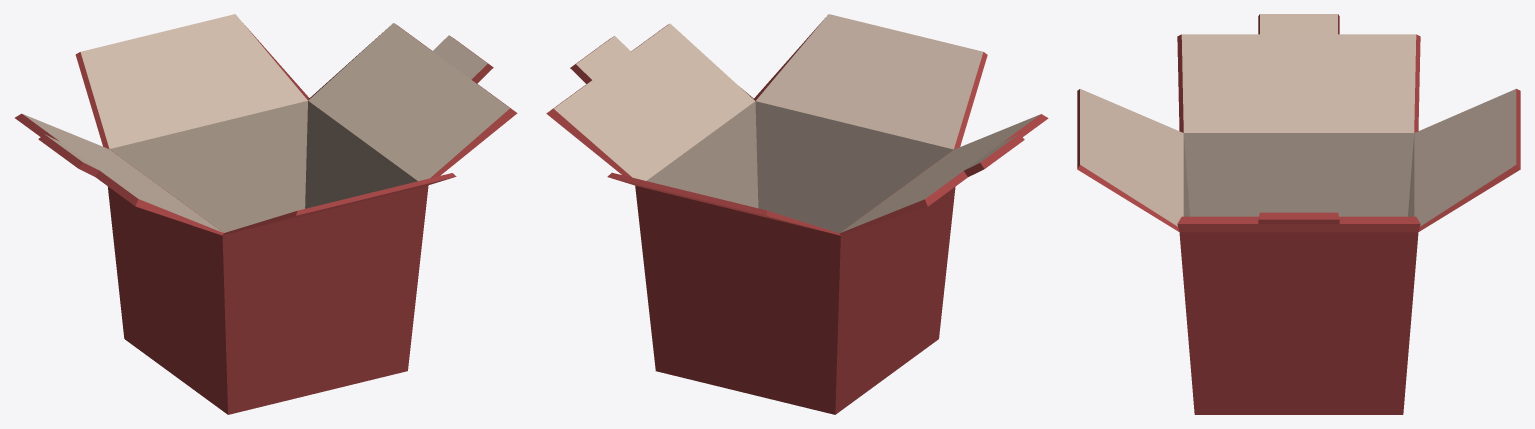
Rendered from Wok.fbx.
The picture shows the model from 3 angles, left to right: view 1: azimuth 30°, elevation 25°; view 2: azimuth 150°, elevation 25°; view 3: azimuth 270°, elevation 25°; orthographic projection.
Visible parts, largest first — view 1: Boite Wok; view 2: Boite Wok; view 3: Boite Wok.
Boxes of the visible parts, box(x1,y1,x2,y2) form: Boite Wok: box(15, 14, 517, 414); Boite Wok: box(546, 14, 1048, 414); Boite Wok: box(1077, 14, 1520, 414).
Size of the model in its own units: 26.22 by 15.47 by 24.12.
